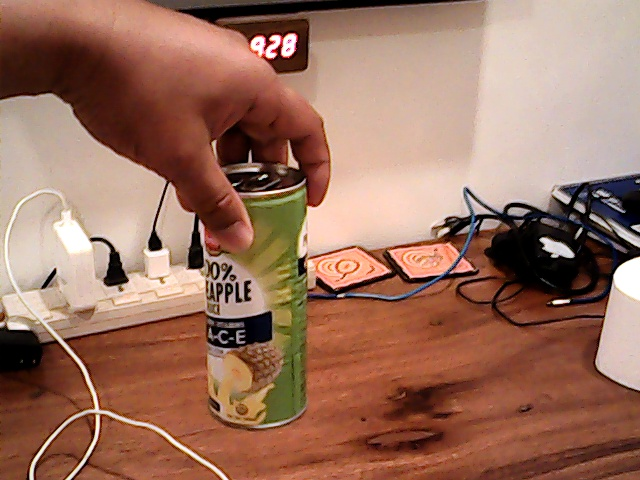Pine Juice: (193, 168, 326, 446)
